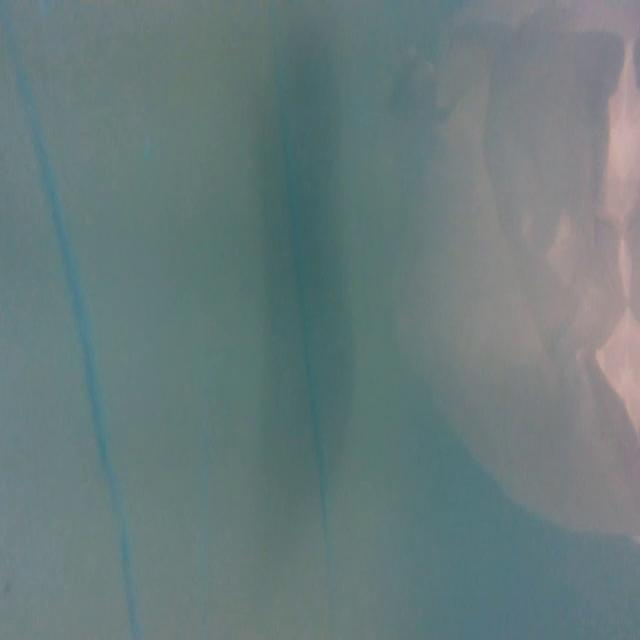plastic bags: (401, 0, 640, 540)
